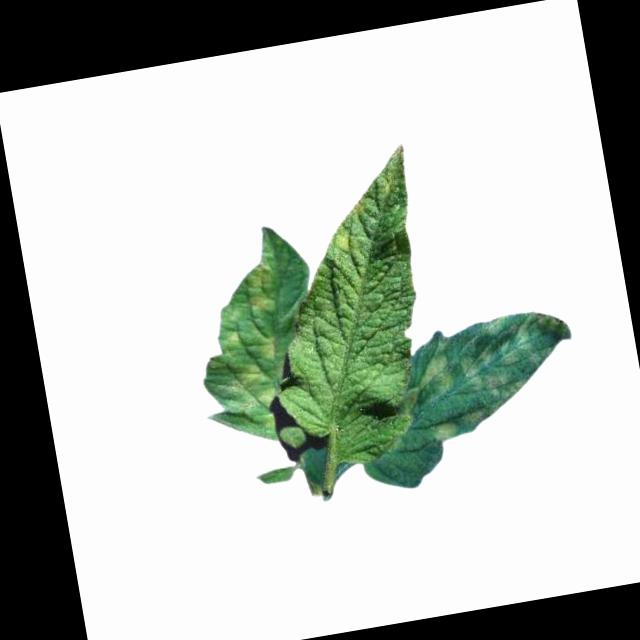Leaf_Mold: (387, 301, 585, 448), (205, 255, 295, 414), (328, 229, 357, 256)
